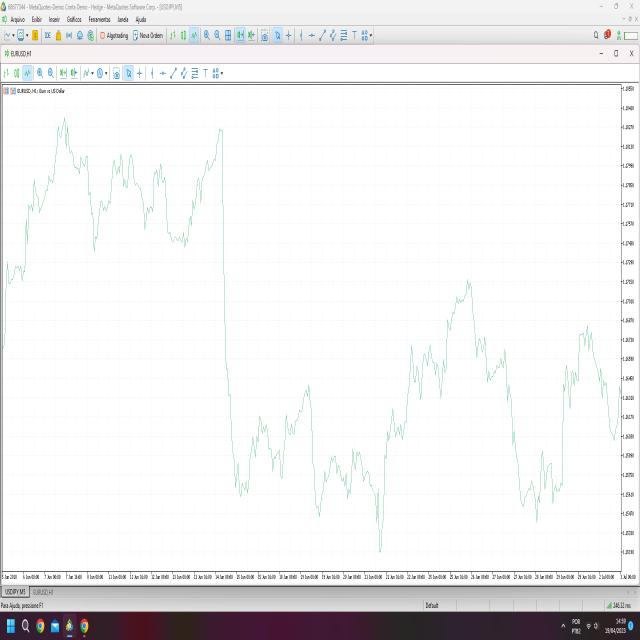bandeira_alta: (380, 406, 415, 540)
fundo_duplo: (505, 406, 575, 528)
oco: (395, 270, 528, 475), (541, 305, 615, 440)
